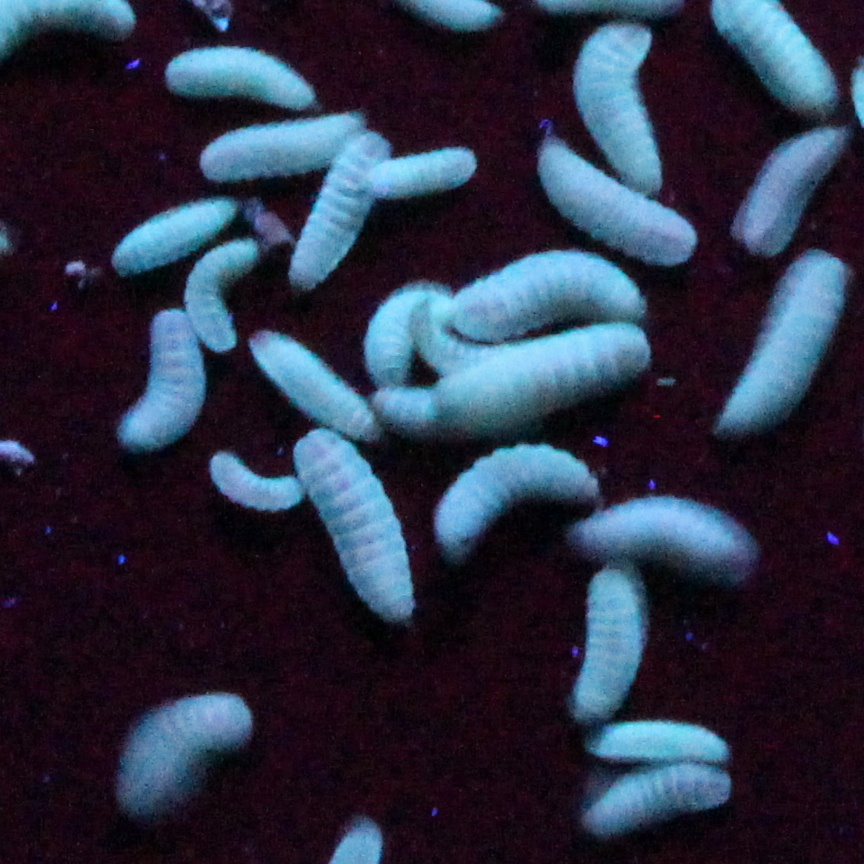larve: (709, 245, 843, 425), (437, 322, 657, 425), (311, 437, 429, 620), (532, 137, 691, 268), (434, 442, 597, 554), (109, 700, 260, 802), (114, 322, 211, 454), (566, 562, 646, 711), (580, 511, 751, 580), (577, 37, 652, 188), (291, 148, 383, 271), (254, 342, 389, 425), (197, 117, 366, 180), (103, 191, 229, 274), (160, 51, 332, 105), (586, 777, 740, 837), (372, 282, 443, 374), (211, 451, 306, 511), (369, 148, 474, 200), (594, 722, 731, 760)
